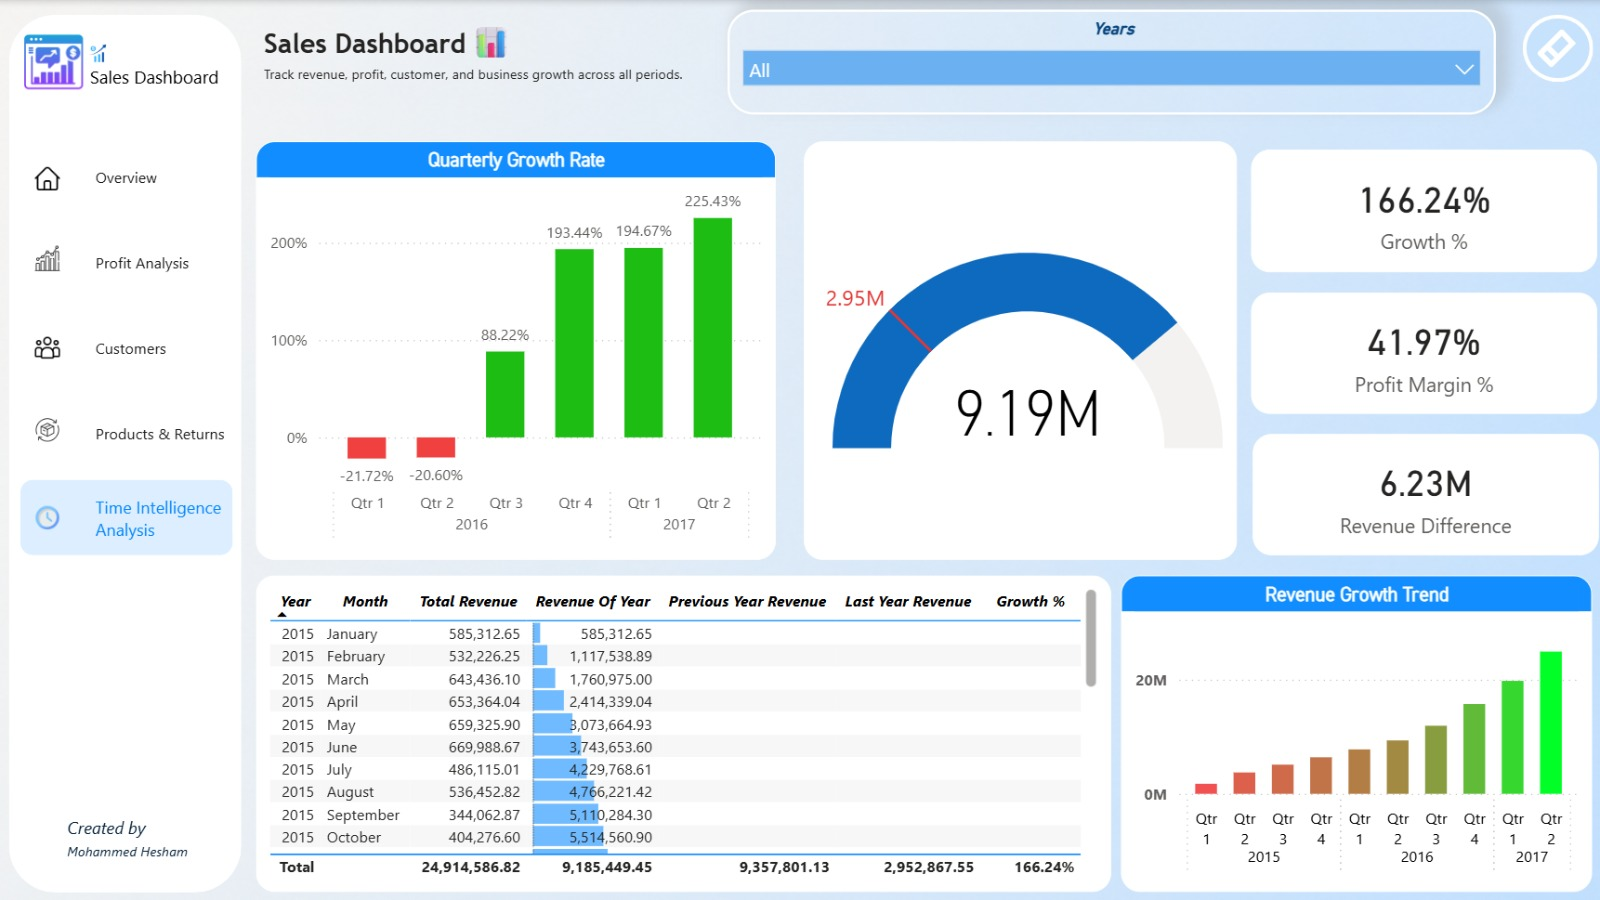

This screenshot's page, from the dashboard's own definition file:
{"tool":"powerbi","page":{"name":"Time Intelligence Analysis","canvas":[1280,720],"ordinal":4},"visuals":[{"type":"shape","box":[8,12.1,185.1,698.9],"z":0},{"type":"pageNavigator","box":[7.8,110,178,335],"z":1000},{"type":"textbox","box":[67.1,47,120.7,30.9],"z":2000},{"type":"image","box":[18.8,25.5,48.3,47],"z":3000},{"type":"image","box":[28.2,128.8,20.1,25.5],"z":4000},{"type":"image","box":[28.2,193.2,20.1,25.5],"z":5000},{"type":"image","box":[28.2,264.3,20.1,25.5],"z":6000},{"type":"image","box":[28.2,330,20.1,25],"z":7000},{"type":"image","box":[28.2,399.8,20.1,24.1],"z":8000},{"type":"textbox","box":[49.6,643.9,118.1,53.7],"z":9000},{"type":"textbox","box":[205.3,12.1,363.6,65.7],"z":10000},{"type":"image","box":[71.1,34.9,14.8,14.8],"z":11000},{"type":"columnChart","title":"Quarterly Growth Rate","fields":{"Category":["Calendar.Date.Variation.Date Hierarchy.Year","Calendar.Date.Variation.Date Hierarchy.Quarter"],"Y":["A Measures.YOY Growth %"]},"box":[205,112.3,414,333],"z":12000},{"type":"actionButton","box":[1212.3,12.1,56.3,53.6],"z":13000},{"type":"gauge","fields":{"Y":["A Measures.YTD Revenue"],"TargetValue":["A Measures.LYTD Revenue"],"MaxValue":["A Measures.Gauge Max"]},"box":[639.9,112.3,344.8,333],"z":14000},{"type":"slicer","title":"Years","fields":{"Values":["Calendar.Date.Variation.Date Hierarchy.Year","Calendar.Date.Variation.Date Hierarchy.Month"]},"box":[579.8,7.8,611.2,83.6],"z":15000},{"type":"card","fields":{"Values":["A Measures.YOY Growth %"]},"box":[996.4,118.8,275.6,97.9],"z":16000},{"type":"card","fields":{"Values":["A Measures.Revenue Difference"]},"box":[997.7,346.1,275.6,96.6],"z":17000},{"type":"card","fields":{"Values":["A Measures.Profit Margin %"]},"box":[996.4,232.5,275.6,96.6],"z":18000},{"type":"tableEx","fields":{"Values":["Calendar.Date.Variation.Date Hierarchy.Year","Calendar.Date.Variation.Date Hierarchy.Month","Sales.Total Revenue","Sales.YTD Revenue","Calendar.LYTD Revenue","A Measures.LYTD Revenue","Calendar.YTD Growth %"]},"box":[205,458.4,680.4,252],"z":19000},{"type":"clusteredColumnChart","title":"Revenue Growth Trend","fields":{"Y":["A Measures.LTD Revenue"],"Category":["Calendar.Date.Variation.Date Hierarchy.Year","Calendar.Date.Variation.Date Hierarchy.Quarter"]},"box":[893.3,458.4,374.8,252],"z":20000}]}

Visuals, with their boxes on the page's 1280x720 design canvas (x1, y1, x2, y2). These are canvas units, not pixel positions in the 1600x900 screenshot, which may show the page scaled, cropped or inside an application window:
shape: pyautogui.locateOnScreen(8, 12, 193, 711)
pageNavigator: pyautogui.locateOnScreen(8, 110, 186, 445)
textbox: pyautogui.locateOnScreen(67, 47, 188, 78)
image: pyautogui.locateOnScreen(19, 26, 67, 72)
image: pyautogui.locateOnScreen(28, 129, 48, 154)
image: pyautogui.locateOnScreen(28, 193, 48, 219)
image: pyautogui.locateOnScreen(28, 264, 48, 290)
image: pyautogui.locateOnScreen(28, 330, 48, 355)
image: pyautogui.locateOnScreen(28, 400, 48, 424)
textbox: pyautogui.locateOnScreen(50, 644, 168, 698)
textbox: pyautogui.locateOnScreen(205, 12, 569, 78)
image: pyautogui.locateOnScreen(71, 35, 86, 50)
"Quarterly Growth Rate" columnChart: pyautogui.locateOnScreen(205, 112, 619, 445)
actionButton: pyautogui.locateOnScreen(1212, 12, 1269, 66)
gauge - A Measures.YTD Revenue x A Measures.LYTD Revenue: pyautogui.locateOnScreen(640, 112, 985, 445)
"Years" slicer: pyautogui.locateOnScreen(580, 8, 1191, 91)
card - A Measures.YOY Growth %: pyautogui.locateOnScreen(996, 119, 1272, 217)
card - A Measures.Revenue Difference: pyautogui.locateOnScreen(998, 346, 1273, 443)
card - A Measures.Profit Margin %: pyautogui.locateOnScreen(996, 232, 1272, 329)
tableEx - Calendar.Date.Variation.Date Hierarchy.Year x Calendar.Date.Variation.Date Hierarchy.Month: pyautogui.locateOnScreen(205, 458, 885, 710)
"Revenue Growth Trend" clusteredColumnChart: pyautogui.locateOnScreen(893, 458, 1268, 710)
